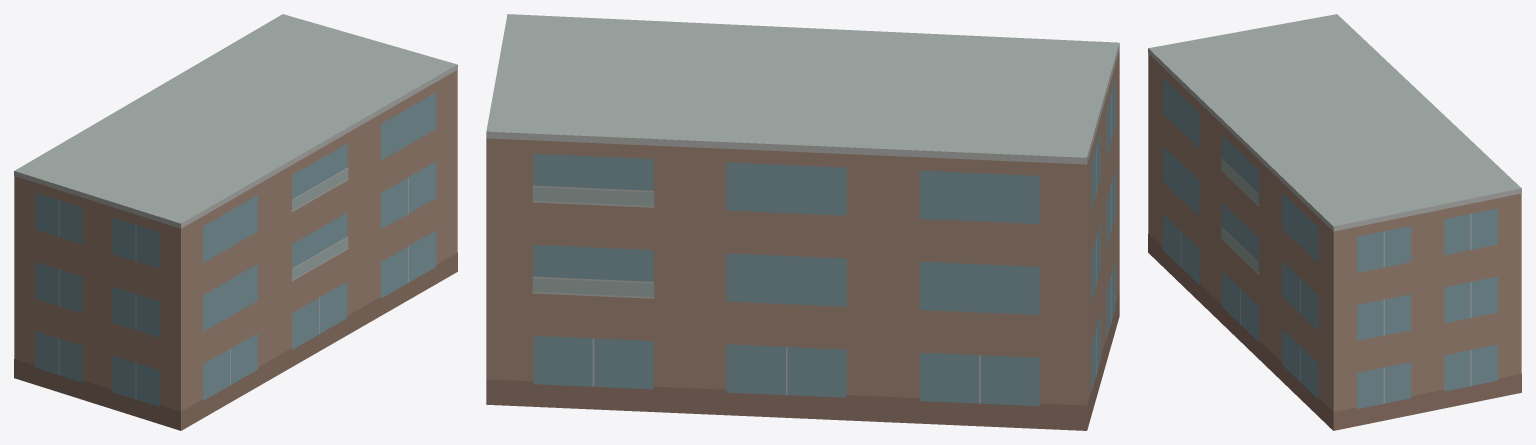
File: survey-upis-32834737.glb
3 views of the same model, side by side, from view 1: azimuth 30°, elevation 25°; view 2: azimuth 150°, elevation 25°; view 3: azimuth 270°, elevation 25° (orthographic). The views are drawn at different scales.
Visible parts, largest first — view 1: survey-upis-32834737.tmp; view 2: survey-upis-32834737.tmp; view 3: survey-upis-32834737.tmp.
Boxes of the visible parts, <box> form: survey-upis-32834737.tmp: <box>14,14,457,430</box>; survey-upis-32834737.tmp: <box>486,14,1119,430</box>; survey-upis-32834737.tmp: <box>1148,14,1521,430</box>.
Size of the model in its own units: 22.09 by 9.9 by 16.41.
